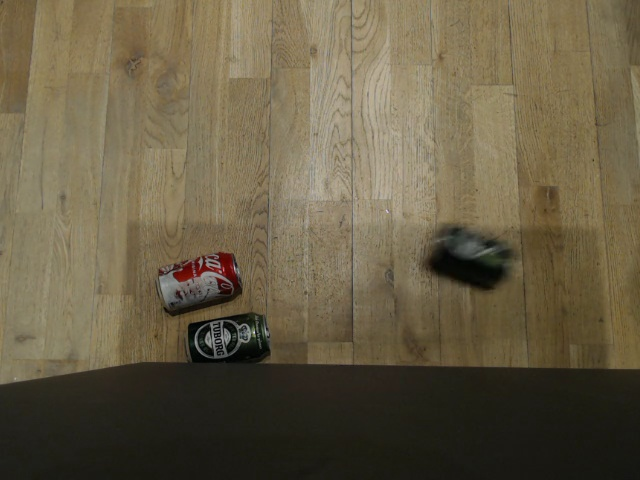beer: (420, 220, 523, 295), (178, 313, 268, 365)
cola: (150, 247, 243, 308)
